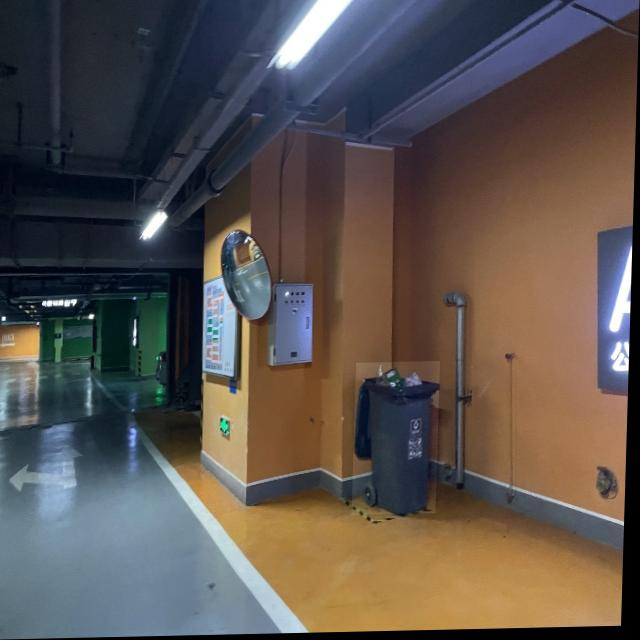overflow: (355, 363, 442, 517)
